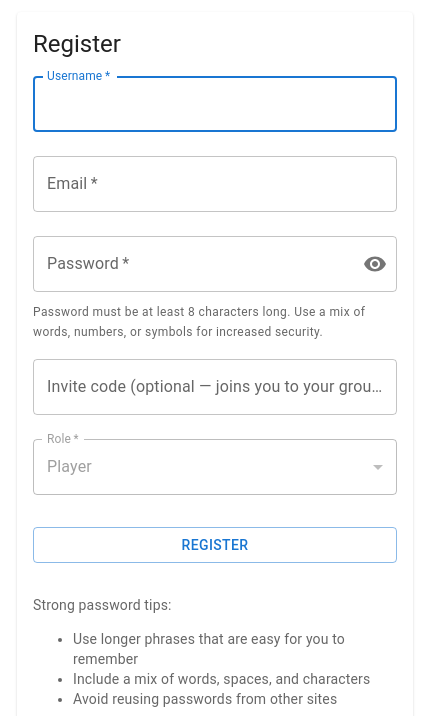
Test case: Register › open mode › does not sign in when registration fails
Type "newplayer" into the field labelled "Username *" at (215, 104), box [33,76,397,132]
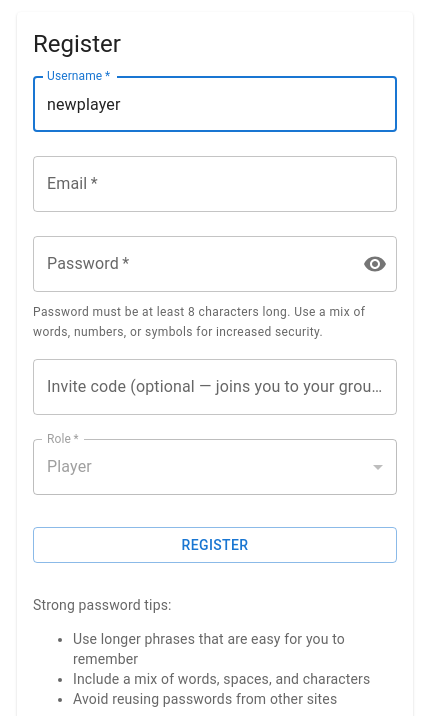
Type "player@example.com" into the field labelled "Email *" at (215, 184), box [33,156,397,212]
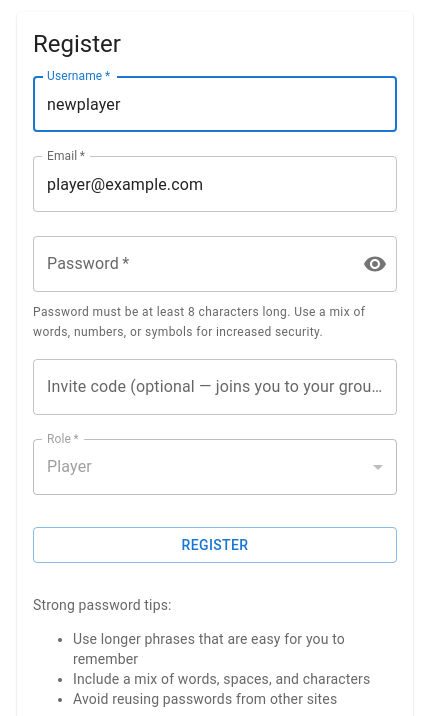
Type "longenoughpassword" into the password field labelled "Password *" at (190, 264), box [33,236,347,292]
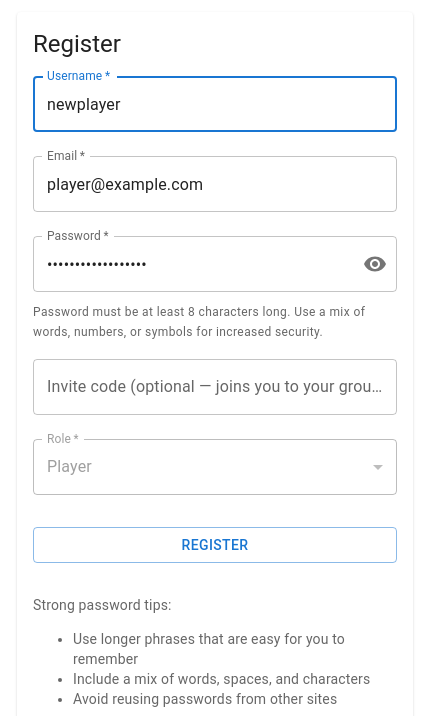
Click the button "Register" at (215, 545), box [33,527,397,563]
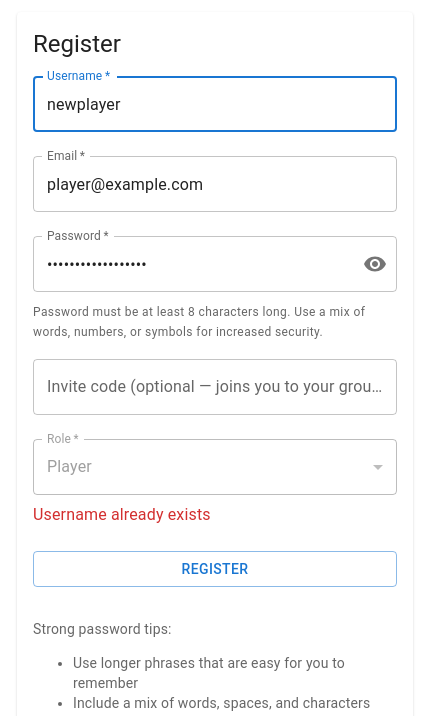
Expected: the text "Username already exists" is shown, [33,505,211,524]
